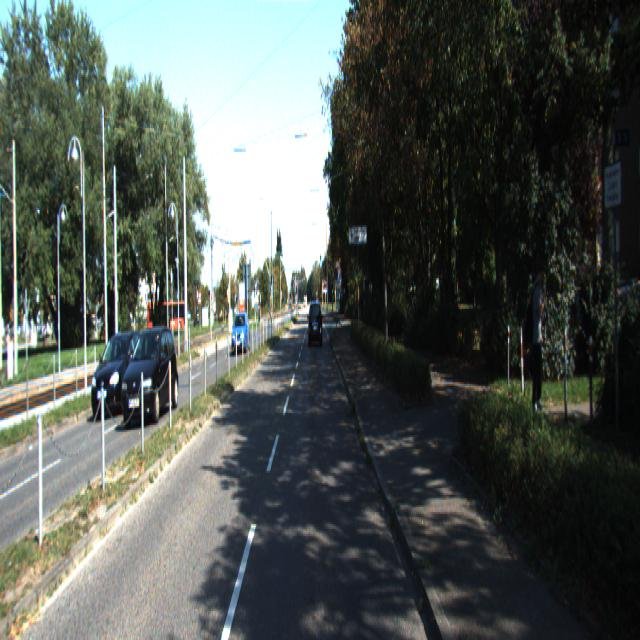Car: (122, 326, 180, 425), (92, 330, 150, 419), (232, 312, 250, 354), (309, 301, 323, 349)
